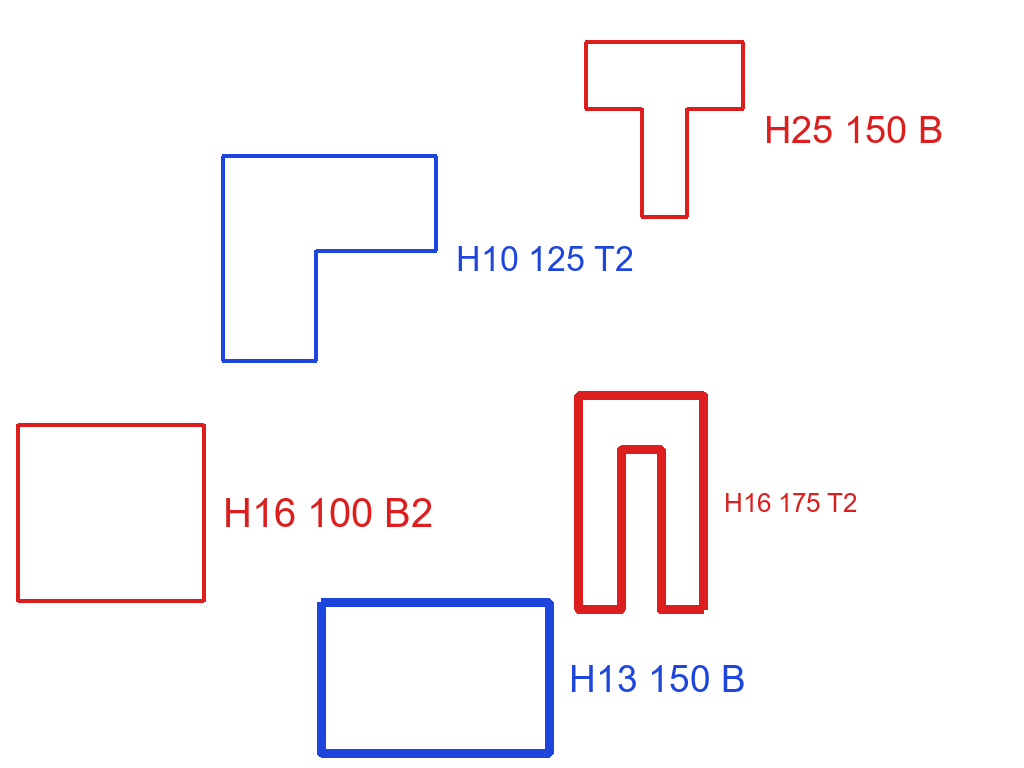shape: (218, 152, 440, 364), (315, 596, 556, 760), (14, 420, 207, 606), (572, 389, 710, 616), (581, 38, 748, 220)
text: (221, 496, 435, 529), (762, 114, 945, 145), (567, 663, 748, 694), (454, 244, 636, 273), (722, 491, 859, 514)
